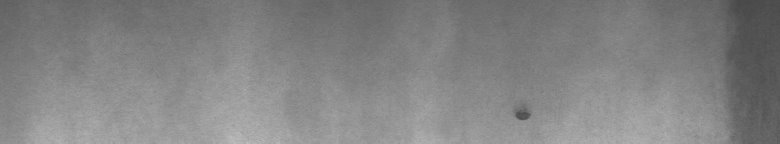fi: (513, 108, 532, 128)
